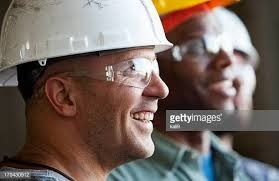helmet: (1, 2, 170, 63)
person with partial safety: (1, 1, 162, 180)
